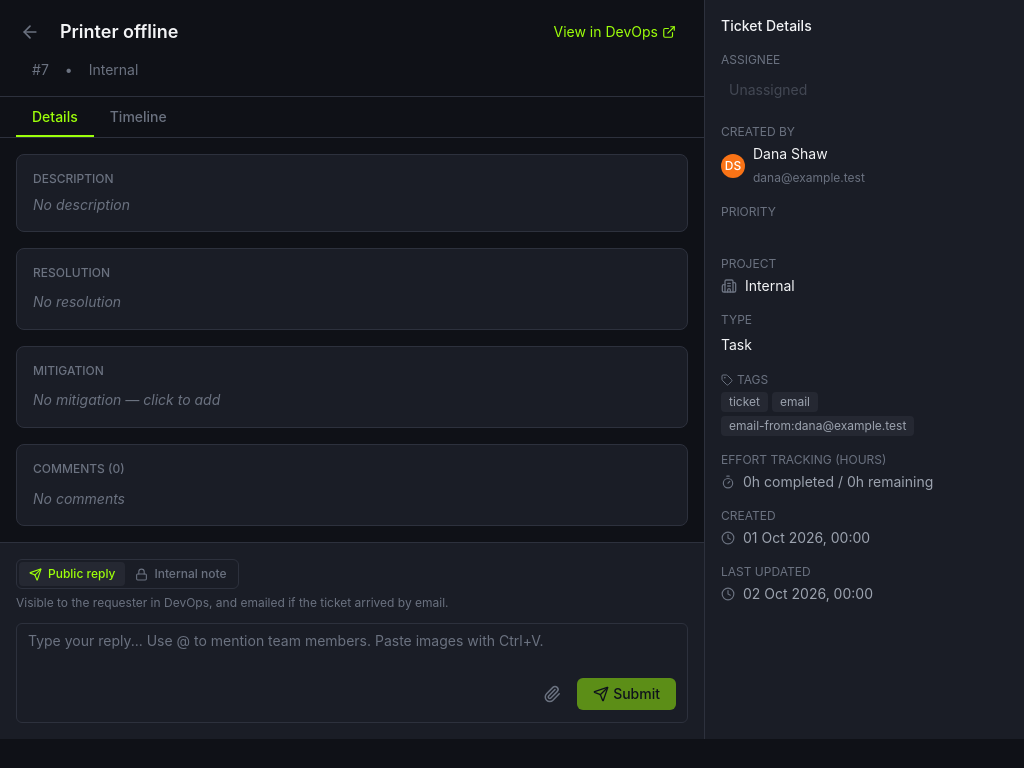
Test: timeline attribution of an emailed ticket › shows the recorded address once it no longer matches the requester
Click the button "Timeline" at (138, 117), box [94,97,183,137]
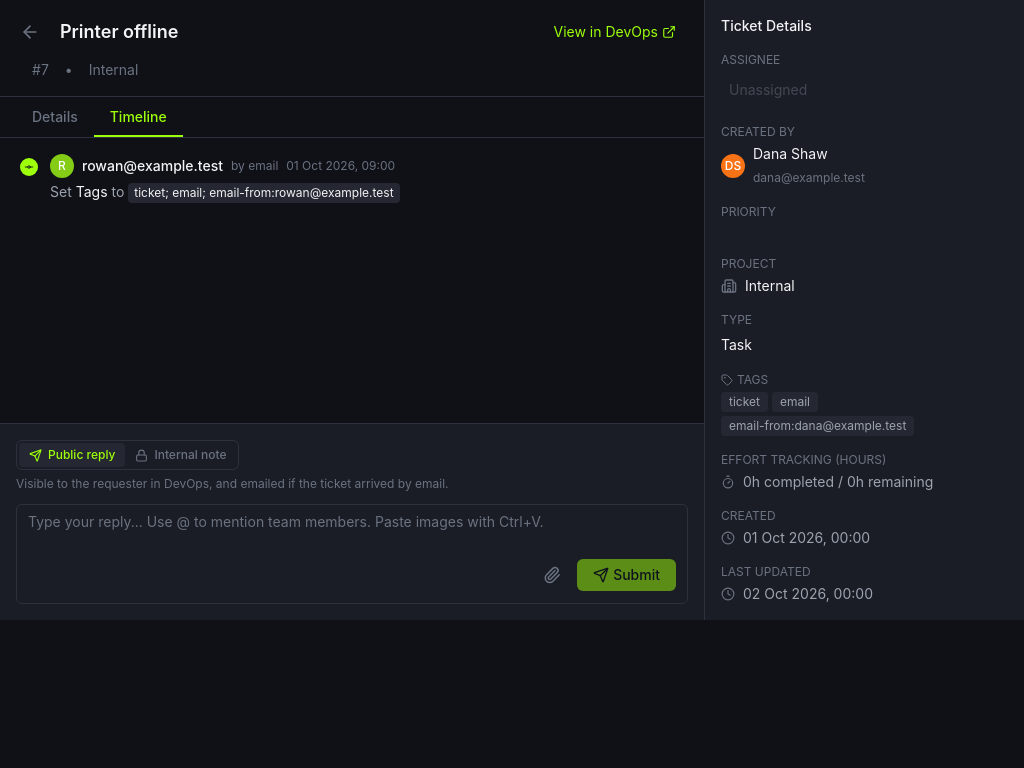
Expected: the text "rowan@example.test" is shown, [82,156,223,176]
